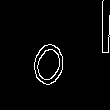O_NE: (31, 22, 79, 88)
